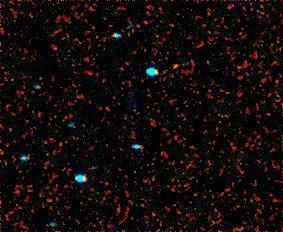star: (161, 54, 191, 84)
